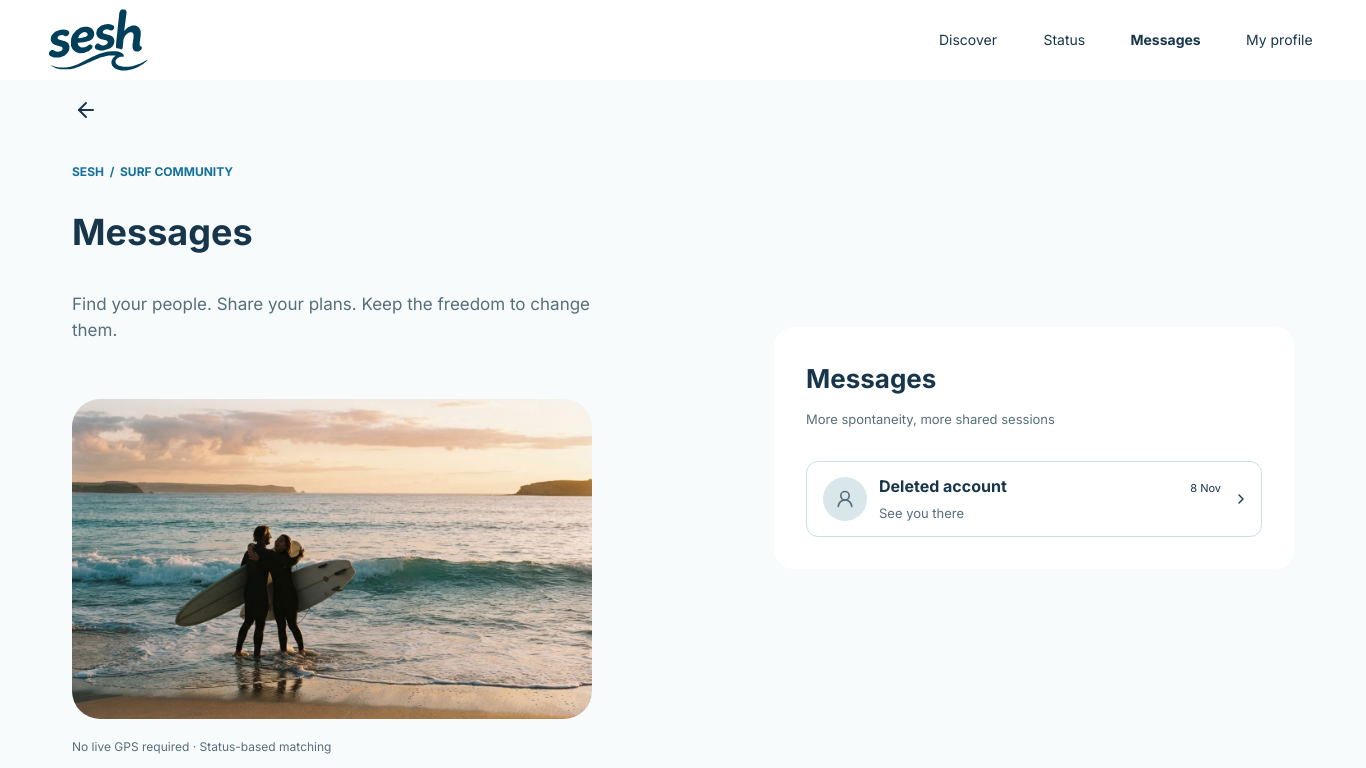
Scenario: retained conversation with a deleted account (regression) › opening it, going back and reloading the inbox keep it: read-only history, header not a link
This screenshot has width=1366, height=768.
Expected: the heading "Messages" is shown, top-left (806, 362), bottom-right (936, 394)
Step 1. Click the link "Deleted account 8 Nov See you there" → coordinates (845, 499), box top-left (806, 461), bottom-right (1262, 536)
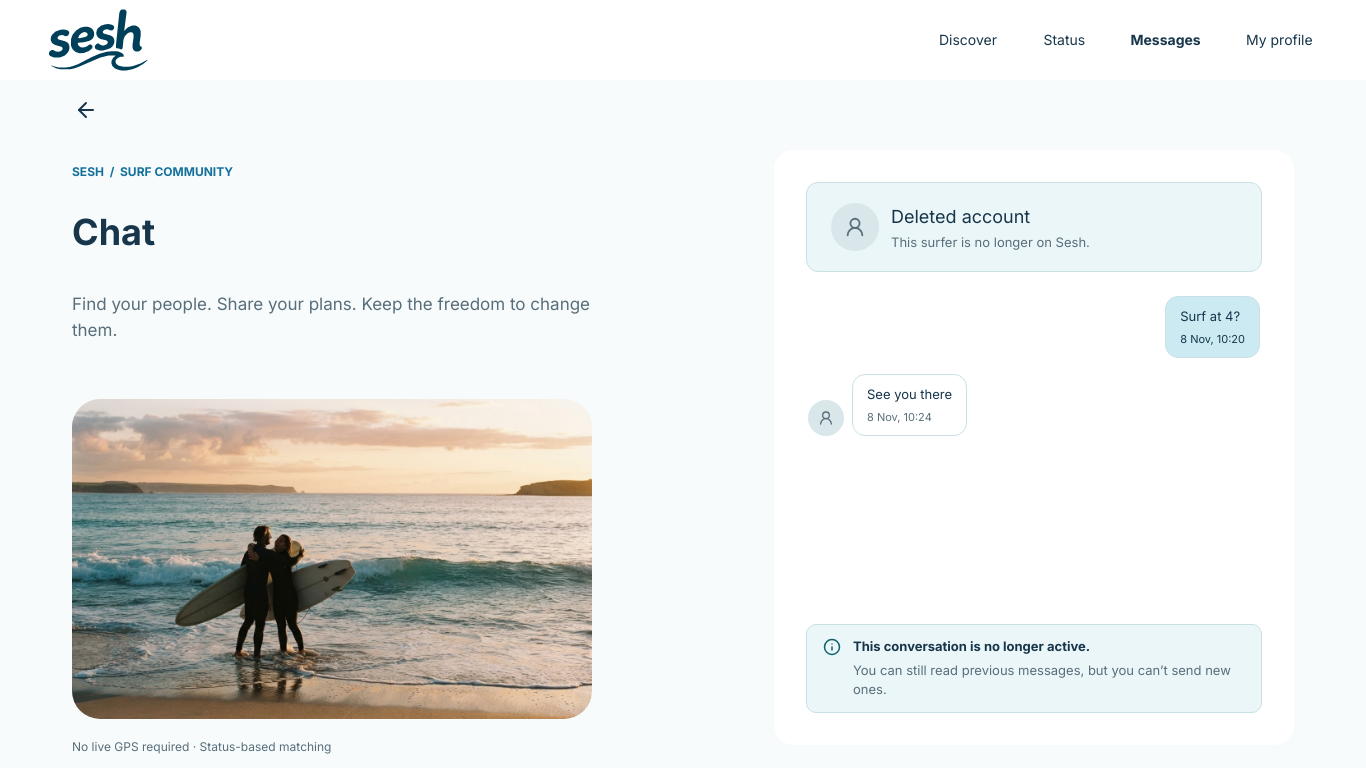
Expected: the heading "Deleted account" is shown, top-left (891, 206), bottom-right (1030, 226)
Now the text "This conversation is no longer active." is shown, box top-left (853, 638), bottom-right (1090, 654)
Step 2. Click the link named "Back to Messages" → coordinates (86, 110), box top-left (74, 98), bottom-right (98, 122)
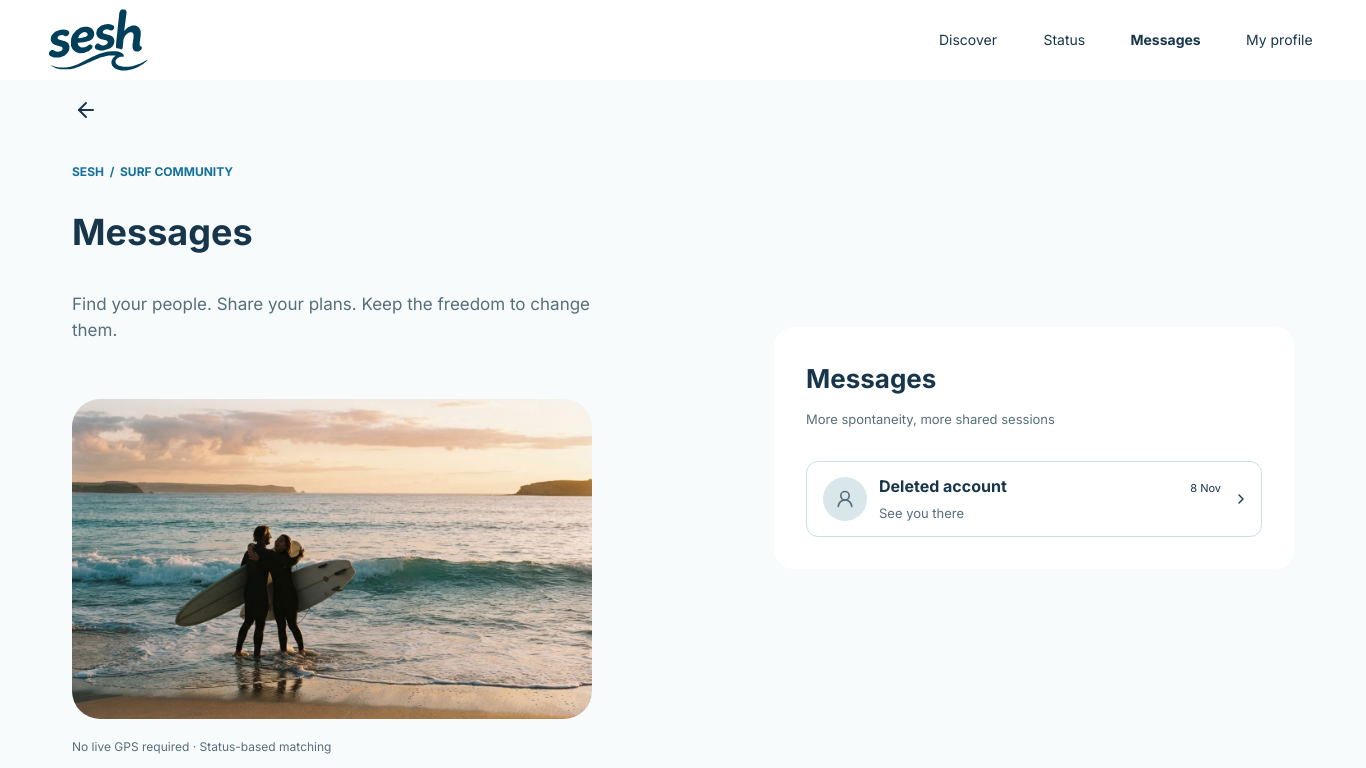
Now the link "Deleted account 8 Nov See you there" is shown, box top-left (806, 461), bottom-right (1262, 536)
